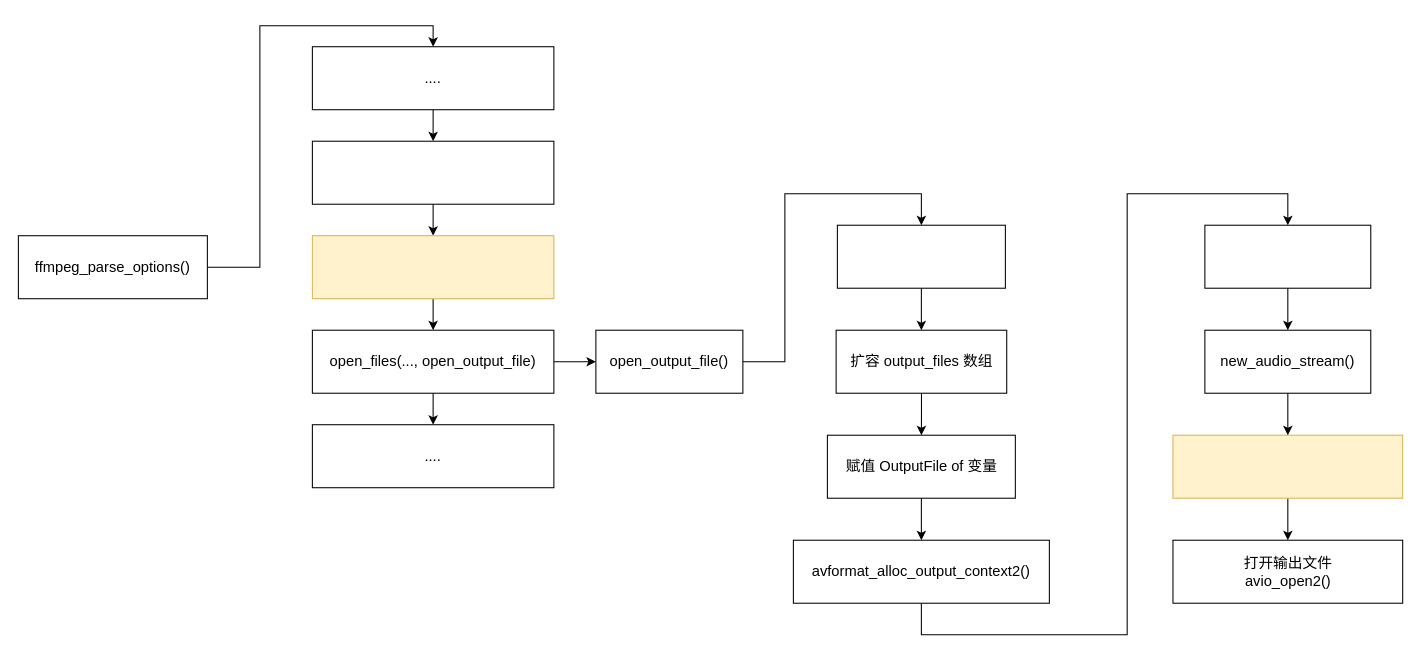
Some shapes in this 1422 by 662 pixel diagram are drawn without their labels. The shapes that lost their labels are listed below. From the top down, each one's centre as x and y in pixels, then its label:
point (432, 172): open_files(..., open_input_file)
point (432, 267): 初始化复杂滤镜 init_complex_filters()
point (920, 256): 计算输出文件的时长 recording_time
point (1287, 256): new_video_stream()
point (1287, 466): 初始化简单滤镜 init_simple_filtergraph(ist, ost);
